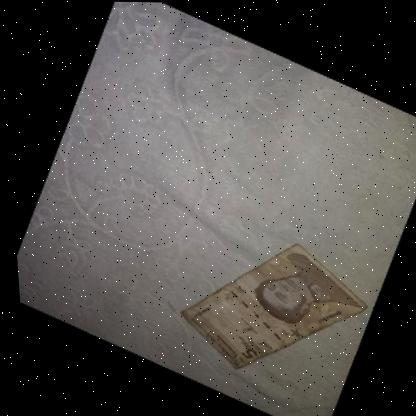five-front-vef: (163, 222, 375, 392)
